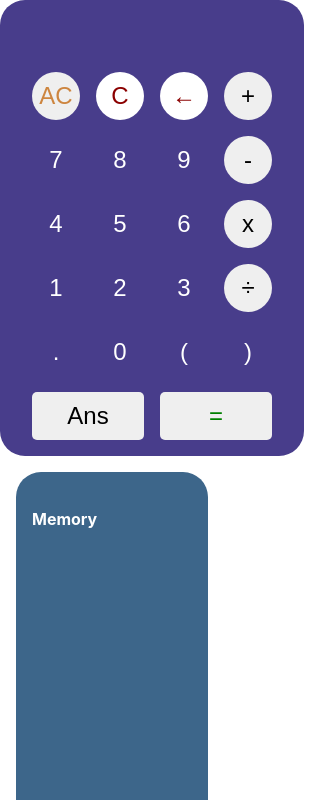
<Calculator /> › displays the result in display and in memory when you enter an equation and press equal
The image size is (321, 800).
Click the button "4". click: (56, 224)
box: [32,200,80,248]
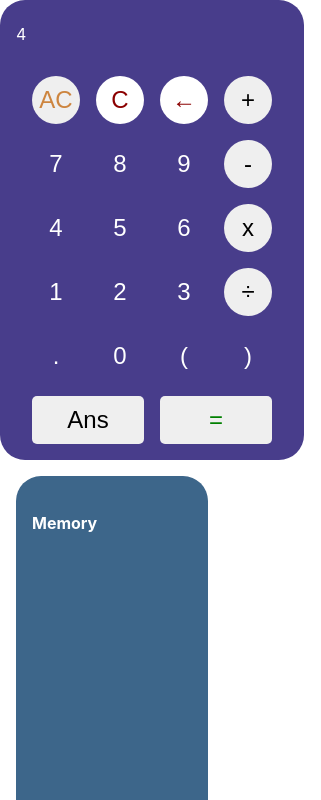
Click the button "+". click: (248, 100)
box: [224,76,272,124]
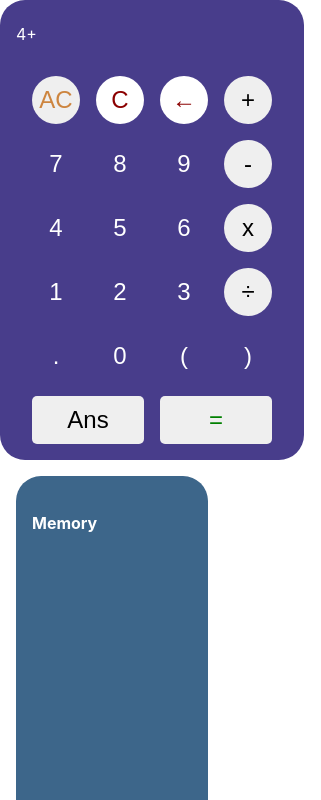
Click the button "1". click: (56, 292)
box: [32,268,80,316]
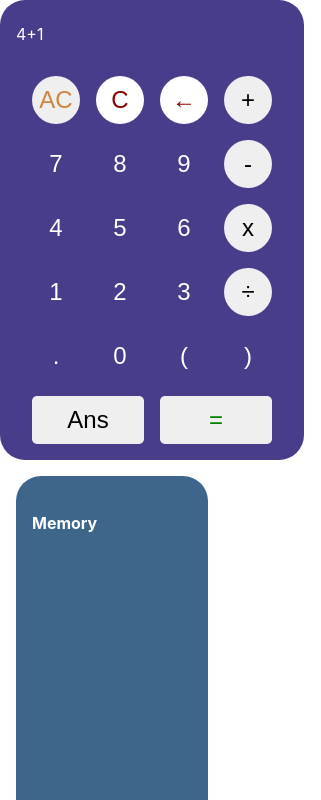
Click the button "0". click: (120, 356)
box: [96,332,144,380]
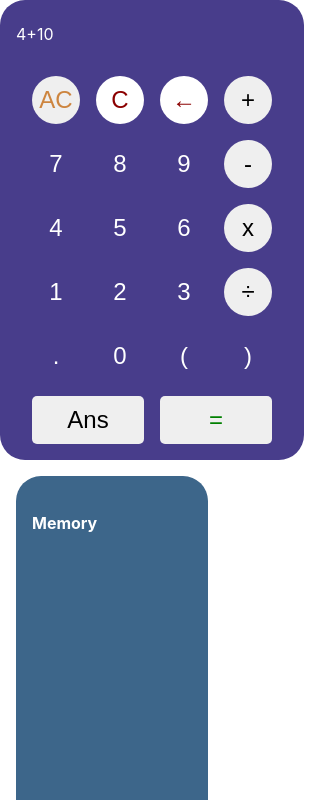
Click the button "=". click: (216, 420)
box: [160,396,272,444]
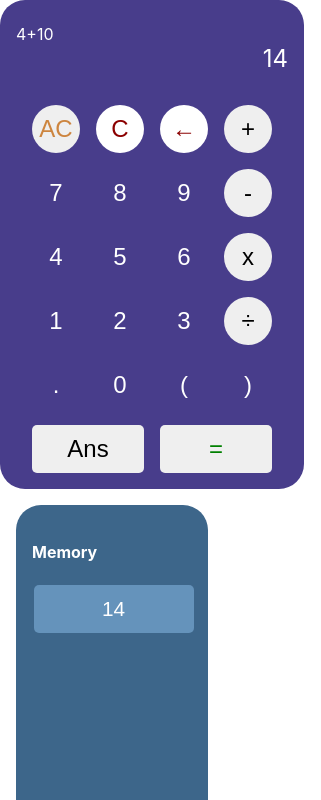
Expected: the text "14" is shown, [263,44,288,73]
Expected: the button "14" is shown, [34,585,194,633]
